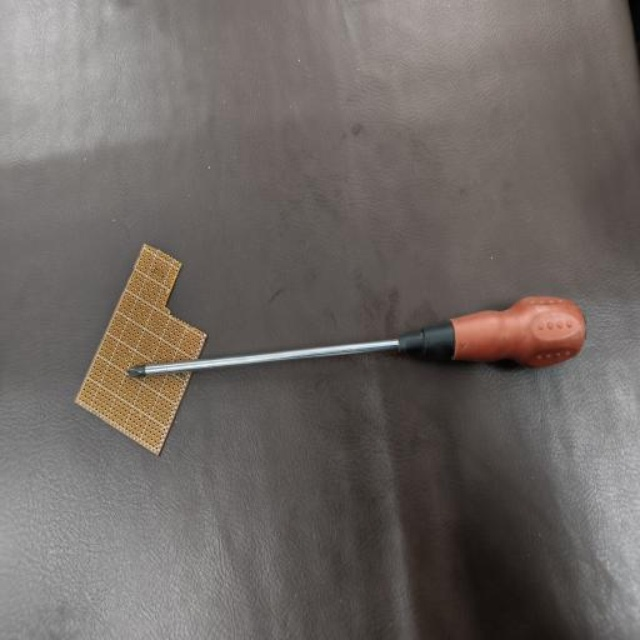screwdriver: (124, 295, 586, 380)
